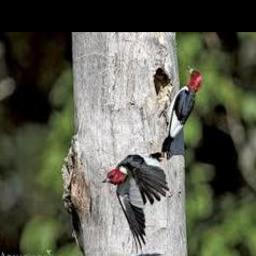Woodpecker: (102, 155, 169, 252), (160, 65, 201, 152)
